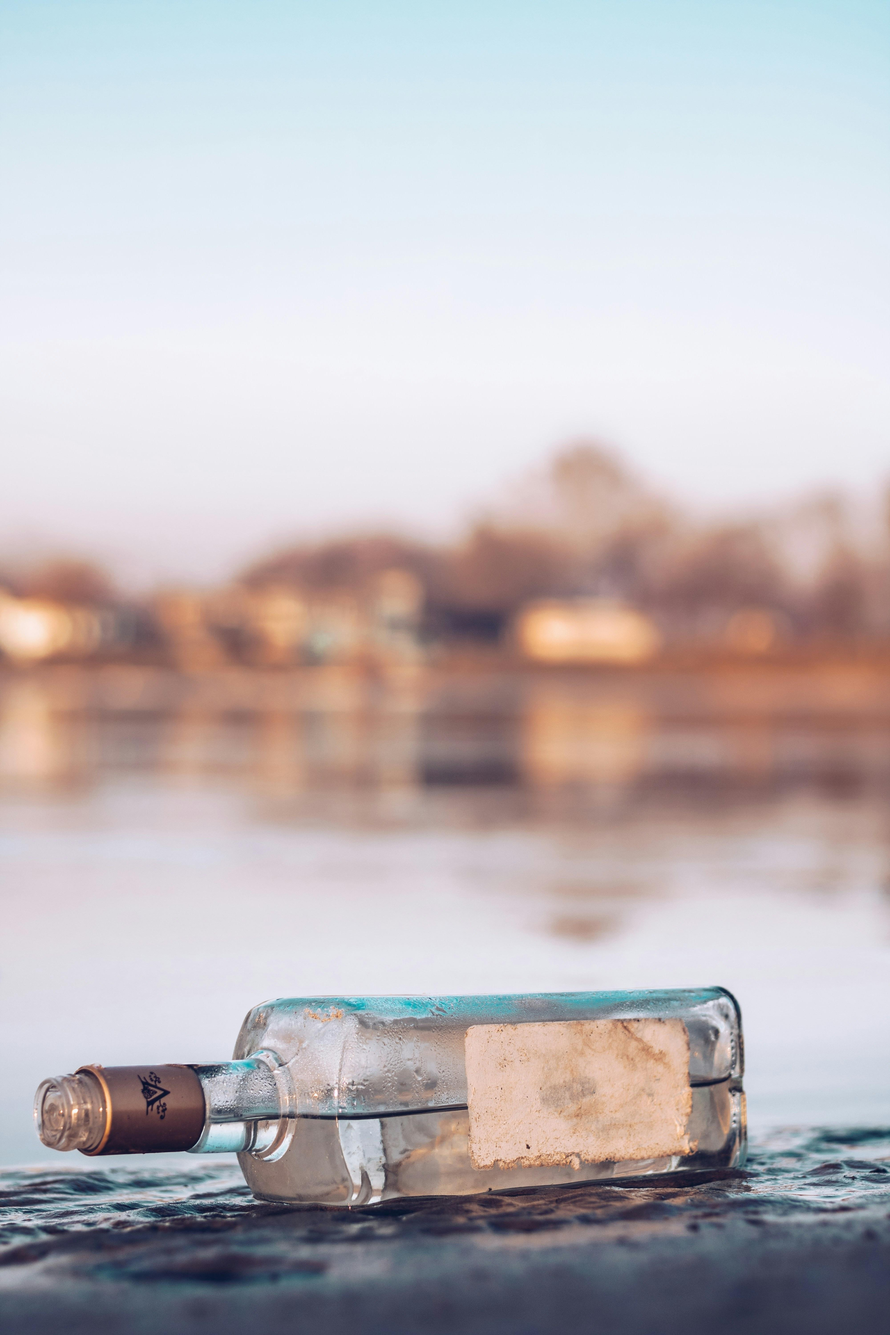Bottle-Detection: (13, 952, 825, 1248)
